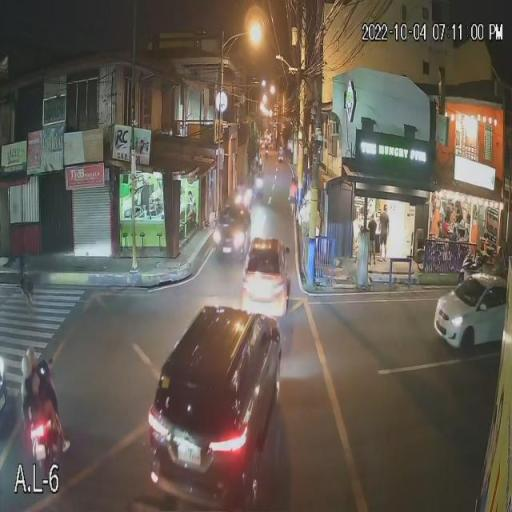helmet: (16, 359, 35, 377), (26, 341, 38, 364)
motorcycle: (40, 367, 58, 464)
rider: (19, 357, 44, 436), (28, 340, 44, 398)
